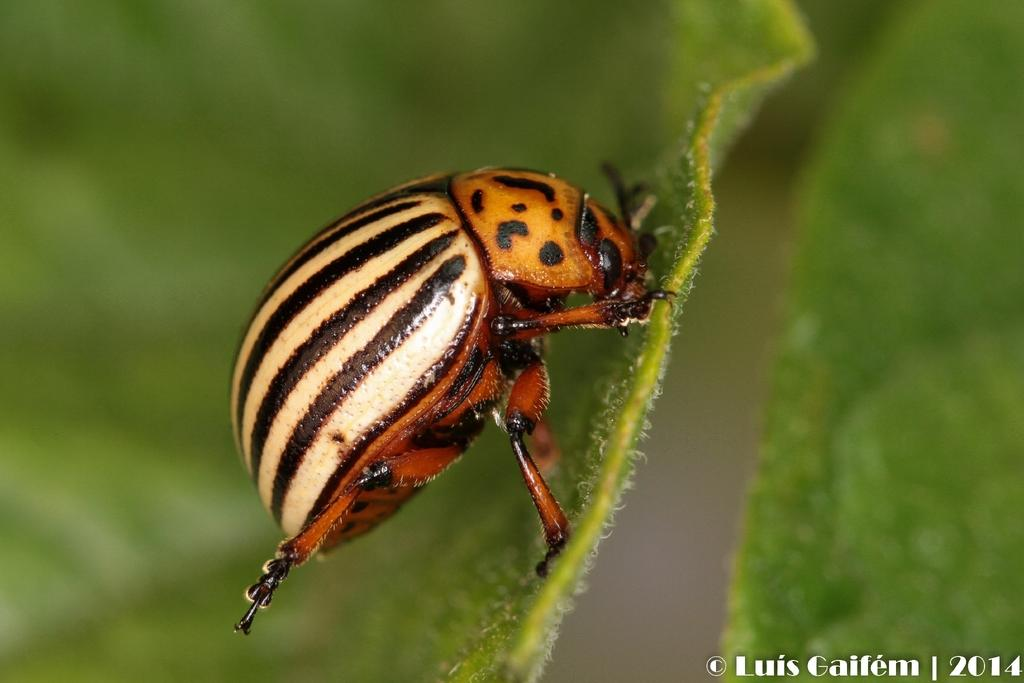potato_beetle: (146, 73, 715, 677)
